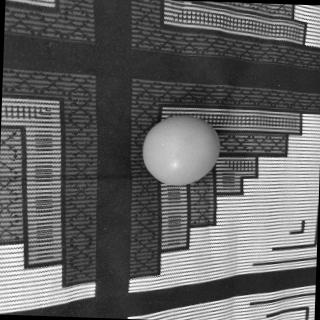Telur: (141, 114, 229, 191)
